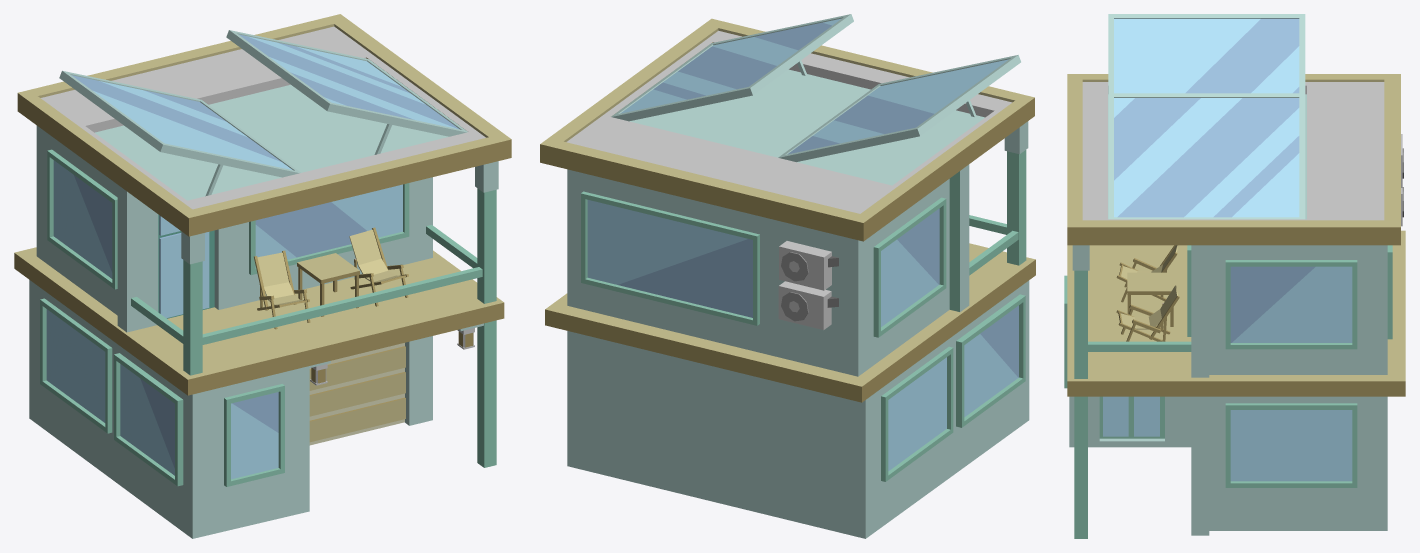
Rendered from cottage_007.glb.
3 views of the same model, side by side, from view 1: azimuth 30°, elevation 25°; view 2: azimuth 150°, elevation 25°; view 3: azimuth 270°, elevation 25° (orthographic). The views are drawn at different scales.
Visible parts, largest first — view 1: cottage_007; view 2: cottage_007; view 3: cottage_007.
Part boxes in pixels (x1,y1,x2,y2): cottage_007: (14,14,511,538); cottage_007: (540,14,1035,538); cottage_007: (1064,14,1405,538).
Bounding box in the file's own units: 6.69 × 7.44 × 6.14.
Materials: 1 (1 with a texture image).
